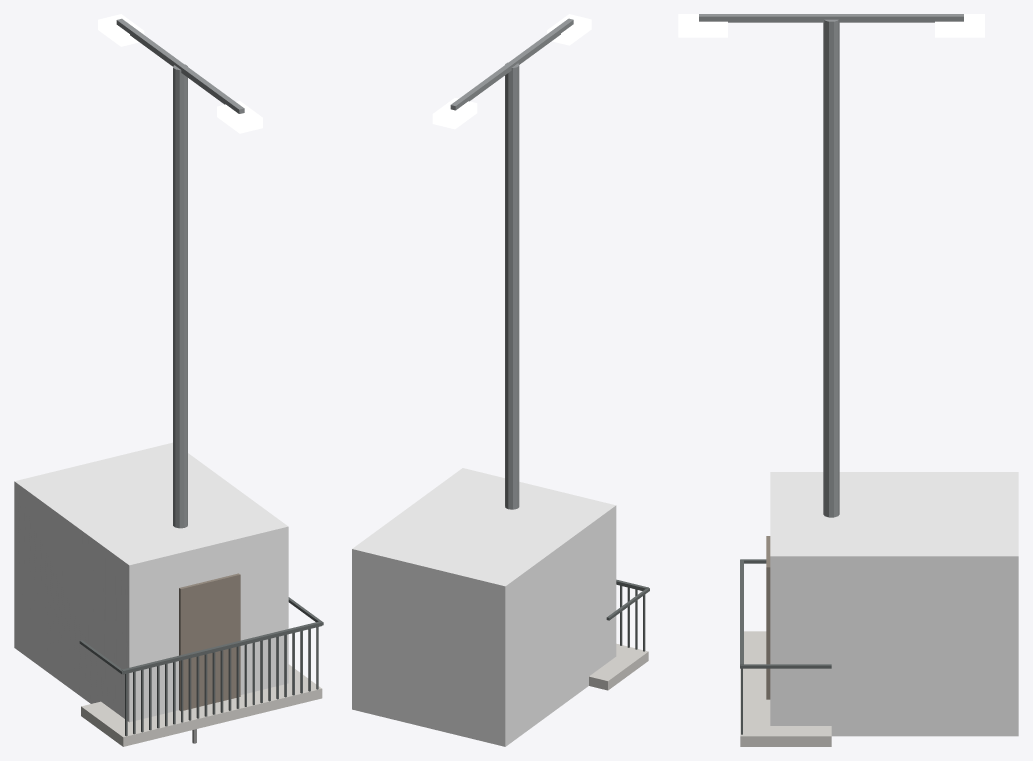
File: props.glb
3 views of the same model, side by side, from view 1: azimuth 30°, elevation 25°; view 2: azimuth 150°, elevation 25°; view 3: azimuth 270°, elevation 25° (orthographic). The views are drawn at different scales.
Visible parts, largest first — view 1: stair_head, balcony, street_lamp; view 2: stair_head, street_lamp, balcony; view 3: stair_head, street_lamp, balcony.
Boxes of the visible parts, bbox=[...] form: stair_head: bbox=[14, 442, 288, 722]; balcony: bbox=[79, 597, 323, 746]; street_lamp: bbox=[98, 14, 262, 528]; stair_head: bbox=[352, 468, 616, 746]; street_lamp: bbox=[432, 14, 591, 509]; balcony: bbox=[589, 579, 649, 690]; stair_head: bbox=[766, 472, 1018, 736]; street_lamp: bbox=[678, 14, 984, 517]; balcony: bbox=[740, 559, 831, 746].
Bounding box in the file's own units: 3.04 × 9.62 × 4.11.
